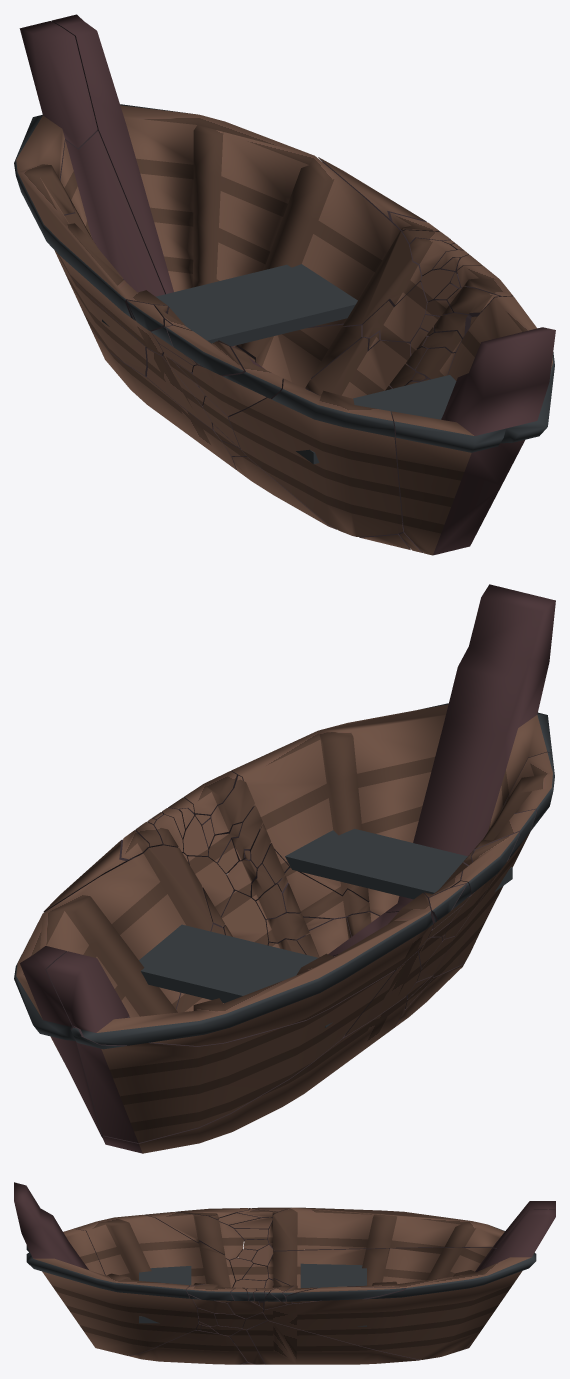
Rendered from boat_destroyed (2).fbx.
The picture shows the model from 3 angles, top to bottom: view 1: azimuth 30°, elevation 25°; view 2: azimuth 150°, elevation 25°; view 3: azimuth 270°, elevation 25°; orthographic projection. The views are drawn at different scales.
Parts seen in each view (by area): view 1: boat_cell.129, boat_cell.074, boat_cell.008, boat_cell.007, planks, boat_cell.475, boat_cell.339, boat_cell.606, boat_cell.739, boat_cell.021, boat_cell.559, boat_cell.045 (+10 smaller); view 2: boat_cell.074, boat_cell.129, boat_cell.475, boat_cell.007, planks, boat_cell.021, boat_cell.008, boat_cell.268, boat_cell.739, boat_cell.720, boat_cell.606, boat_cell.559 (+13 smaller); view 3: boat_cell.129, boat_cell.074, boat_cell.007, boat_cell.008, boat_cell.475, boat_cell.339, boat_cell.583, planks, boat_cell.739, boat_cell.641, boat_cell.387, boat_cell.606 (+14 smaller).
Part boxes in pixels (x1,y1,x2,y2): boat_cell.129: [51, 14, 422, 326]; boat_cell.074: [391, 296, 555, 555]; boat_cell.008: [228, 378, 402, 536]; boat_cell.007: [14, 21, 185, 355]; planks: [102, 264, 456, 464]; boat_cell.475: [54, 130, 164, 376]; boat_cell.339: [233, 323, 388, 388]; boat_cell.606: [305, 337, 411, 398]; boat_cell.739: [192, 346, 282, 416]; boat_cell.021: [91, 330, 236, 469]; boat_cell.559: [362, 281, 439, 343]; boat_cell.045: [167, 325, 243, 375]; boat_cell.074: [231, 584, 555, 916]; boat_cell.129: [14, 845, 212, 1137]; boat_cell.475: [71, 970, 394, 1143]; boat_cell.007: [46, 893, 434, 1045]; planks: [139, 828, 512, 1027]; boat_cell.021: [102, 996, 407, 1153]; boat_cell.008: [433, 752, 554, 976]; boat_cell.268: [273, 867, 370, 918]; boat_cell.739: [440, 809, 536, 938]; boat_cell.720: [344, 951, 420, 1037]; boat_cell.606: [221, 890, 268, 945]; boat_cell.559: [187, 856, 233, 926]; boat_cell.129: [263, 1209, 555, 1359]; boat_cell.074: [14, 1182, 198, 1355]; boat_cell.007: [268, 1201, 555, 1250]; boat_cell.008: [74, 1214, 234, 1287]; boat_cell.475: [268, 1247, 496, 1288]; boat_cell.339: [247, 1320, 420, 1364]; boat_cell.583: [129, 1330, 246, 1364]; planks: [139, 1263, 366, 1326]; boat_cell.739: [144, 1212, 243, 1260]; boat_cell.641: [286, 1286, 404, 1303]; boat_cell.387: [186, 1284, 235, 1302]; boat_cell.606: [230, 1321, 265, 1364].
Bounding box in the file's own units: 129 × 107 × 346.
